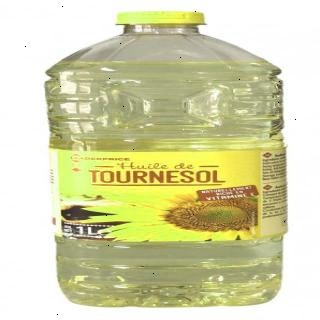Plastic-bottle: (35, 9, 299, 311)
